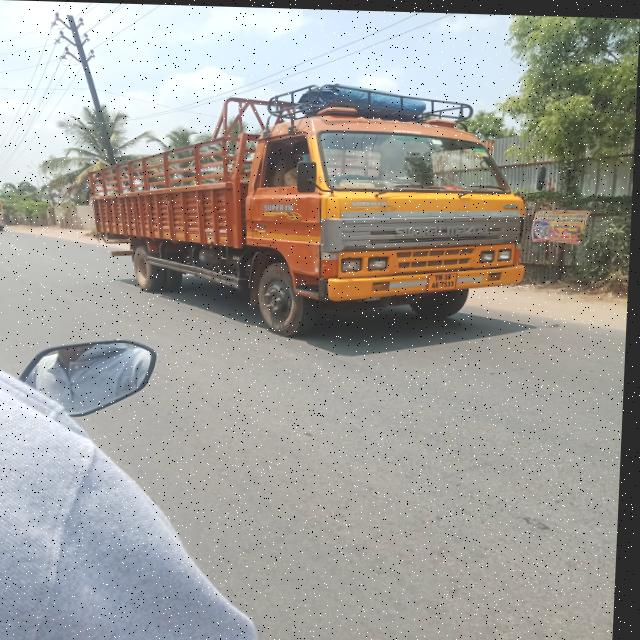plate: (428, 269, 461, 290)
